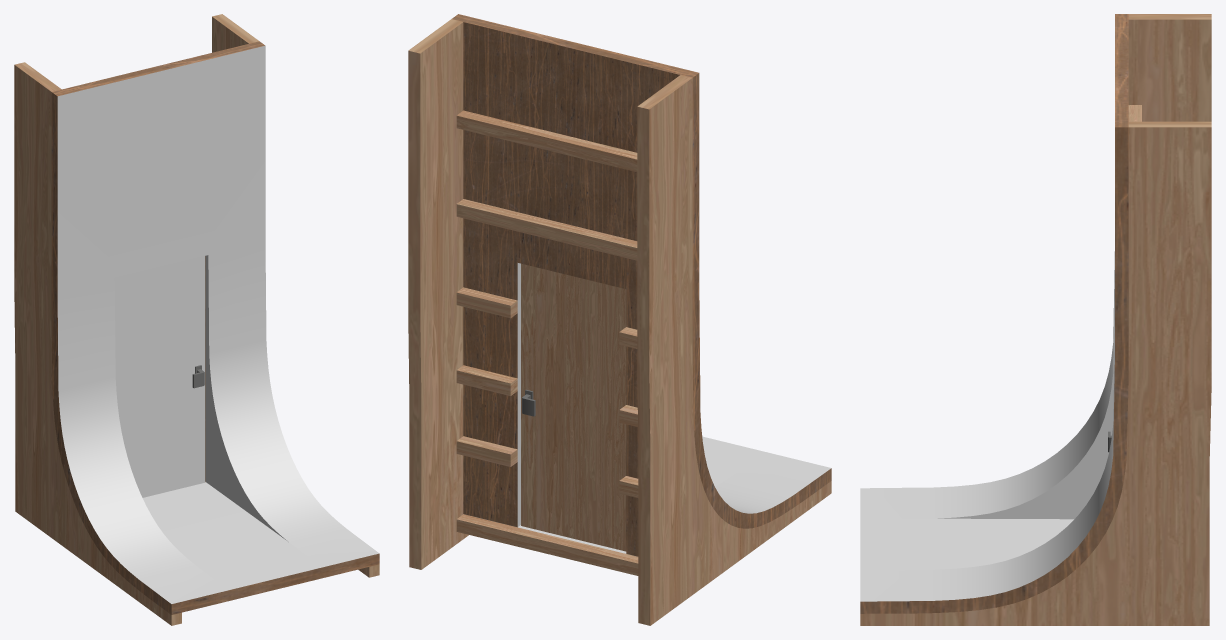
The model's file is GreenScreen_Door.fbx.
3 views of the same model, side by side, from view 1: azimuth 30°, elevation 25°; view 2: azimuth 150°, elevation 25°; view 3: azimuth 270°, elevation 25° (orthographic). The views are drawn at different scales.
Visible parts, largest first — view 1: GreenScreen_DoorFrame, GreenScreen_Door; view 2: GreenScreen_DoorFrame, GreenScreen_Door; view 3: GreenScreen_DoorFrame.
Boxes of the visible parts, box(x1,y1,x2,y2) form: GreenScreen_DoorFrame: box(14, 14, 379, 625); GreenScreen_Door: box(114, 256, 205, 497); GreenScreen_DoorFrame: box(408, 14, 831, 625); GreenScreen_Door: box(521, 263, 626, 551); GreenScreen_DoorFrame: box(860, 14, 1211, 625).
Bounding box in the file's own units: 2 × 4.1 × 2.62.
